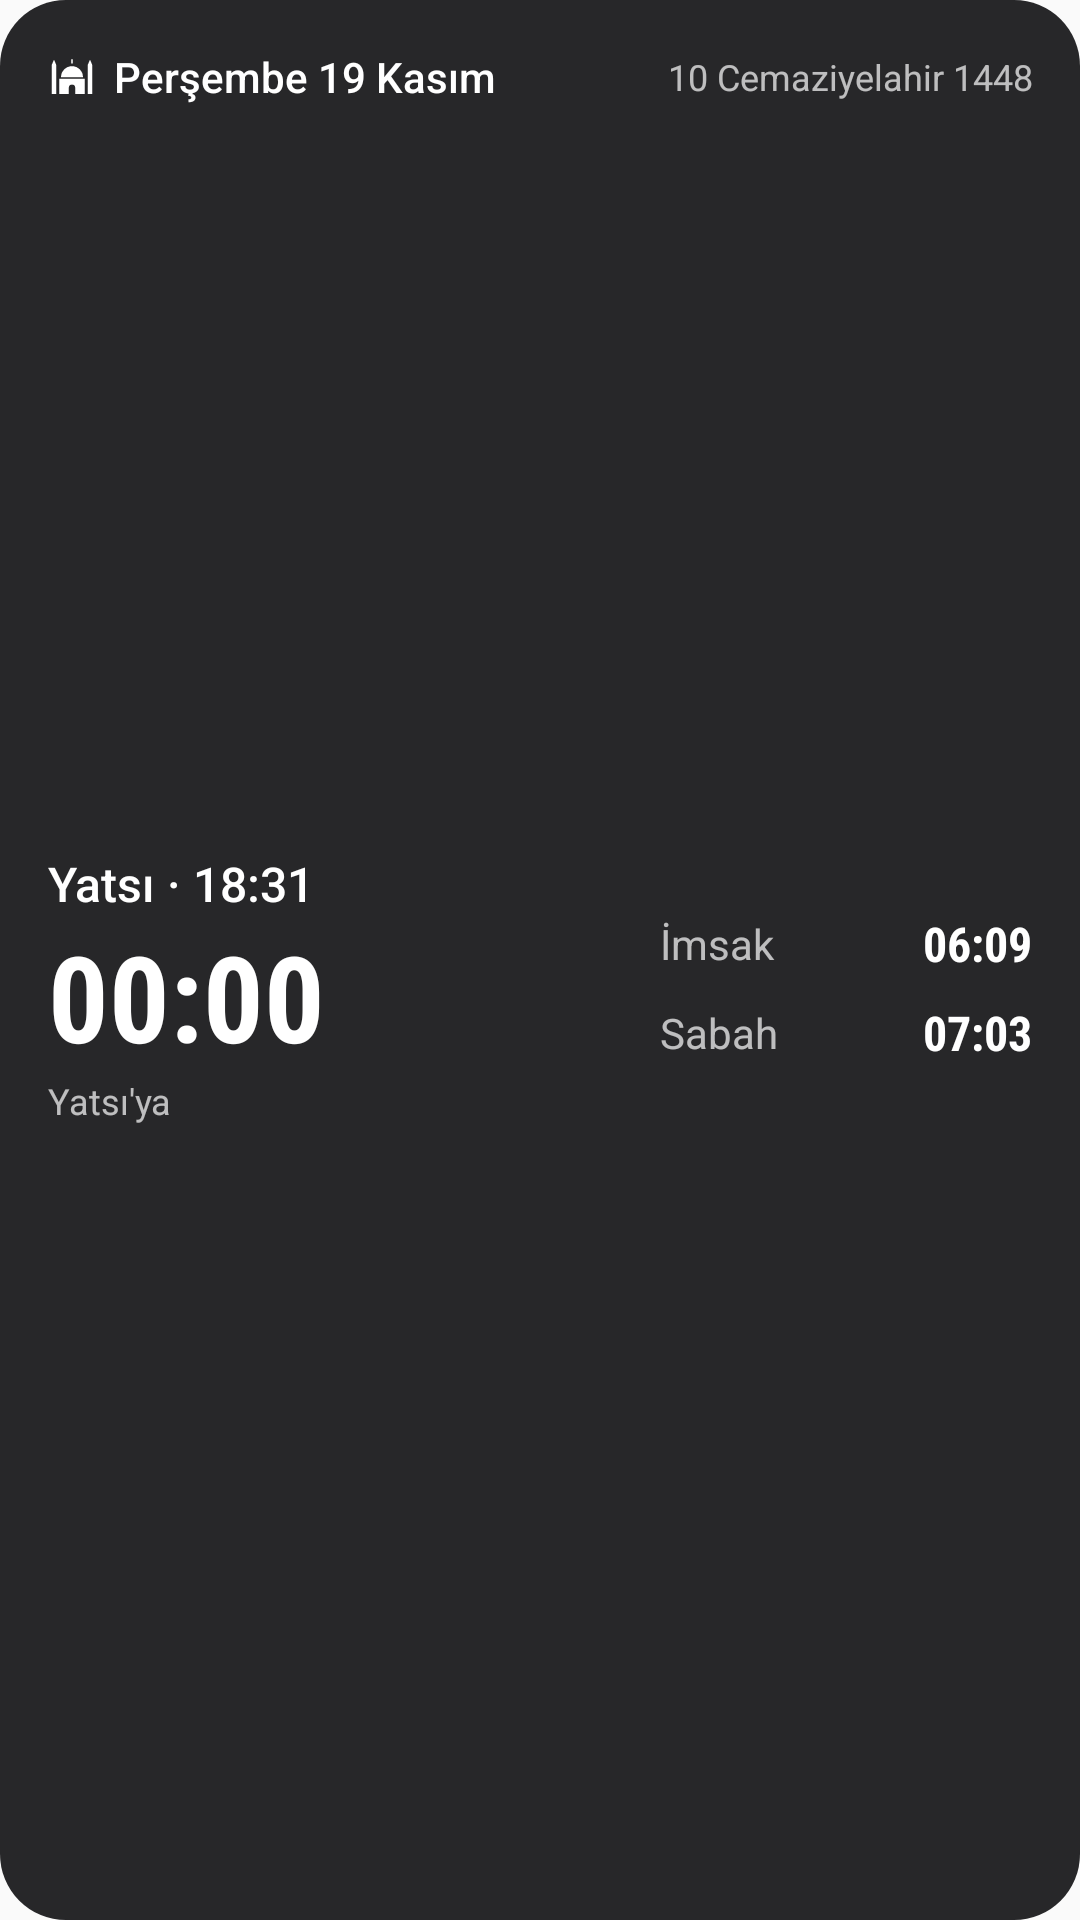

Locate icon controls on the screen. Image size 1080 x 1920, boxes as (x1, y1, x2, y2).
cami: (51, 59, 93, 94)
